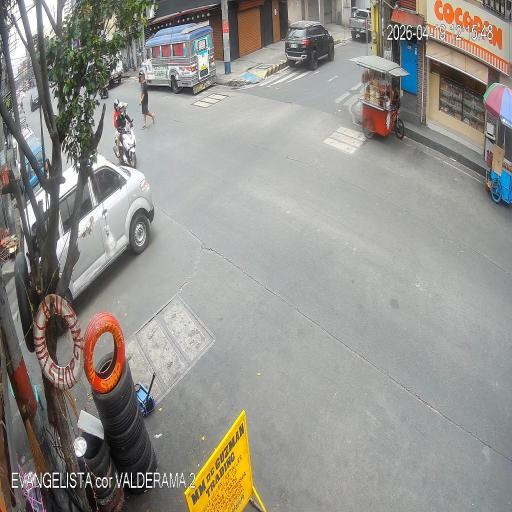Car: (16, 162, 154, 265), (286, 20, 336, 72), (350, 10, 371, 44)
Motor: (111, 98, 136, 164)
